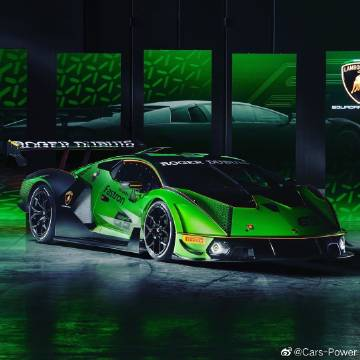other: (15, 142, 359, 268)
